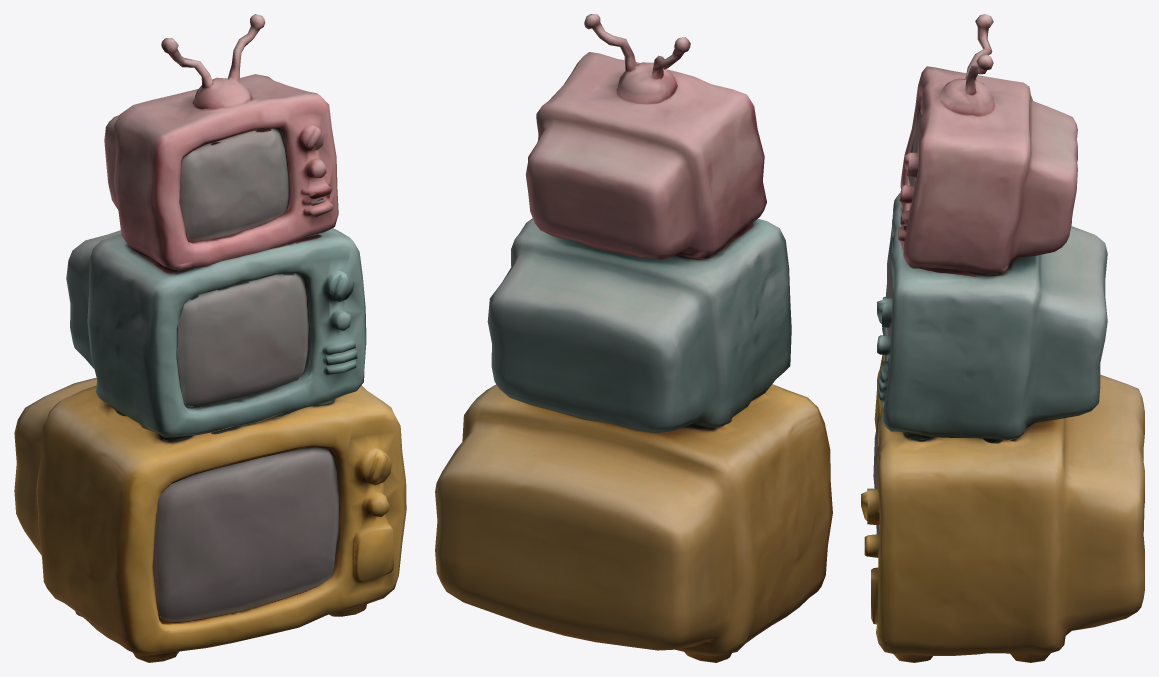
Rendered from televizyonyigin.glb.
3 renders of one model, left to right at view 1: azimuth 30°, elevation 25°; view 2: azimuth 150°, elevation 25°; view 3: azimuth 270°, elevation 25°, orthographic. The views are drawn at different scales.
Visible parts, largest first — view 1: tripo_node_b167bd3f-c5c2-429e-9948-eeef512ac736; view 2: tripo_node_b167bd3f-c5c2-429e-9948-eeef512ac736; view 3: tripo_node_b167bd3f-c5c2-429e-9948-eeef512ac736.
Boxes of the visible parts, box(x1,y1,x2,y2) form: tripo_node_b167bd3f-c5c2-429e-9948-eeef512ac736: box(14, 14, 406, 662); tripo_node_b167bd3f-c5c2-429e-9948-eeef512ac736: box(435, 14, 832, 662); tripo_node_b167bd3f-c5c2-429e-9948-eeef512ac736: box(861, 14, 1144, 662).
Size of the model in its own units: 0.5077 by 0.9789 by 0.4387.
1 material, 1 textured.
